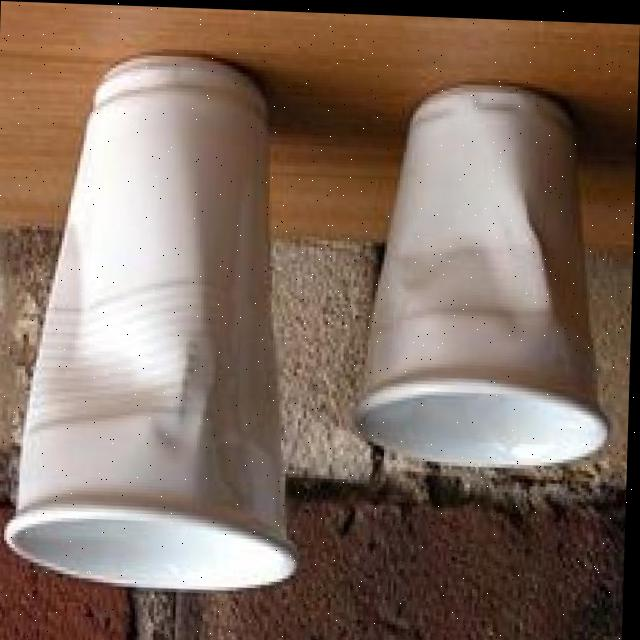cup: (7, 54, 299, 582), (359, 82, 609, 460)
